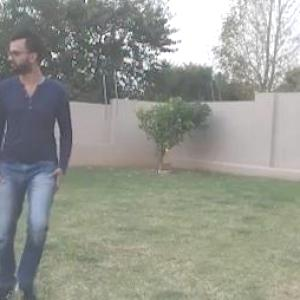follow: (0, 8, 75, 299)
